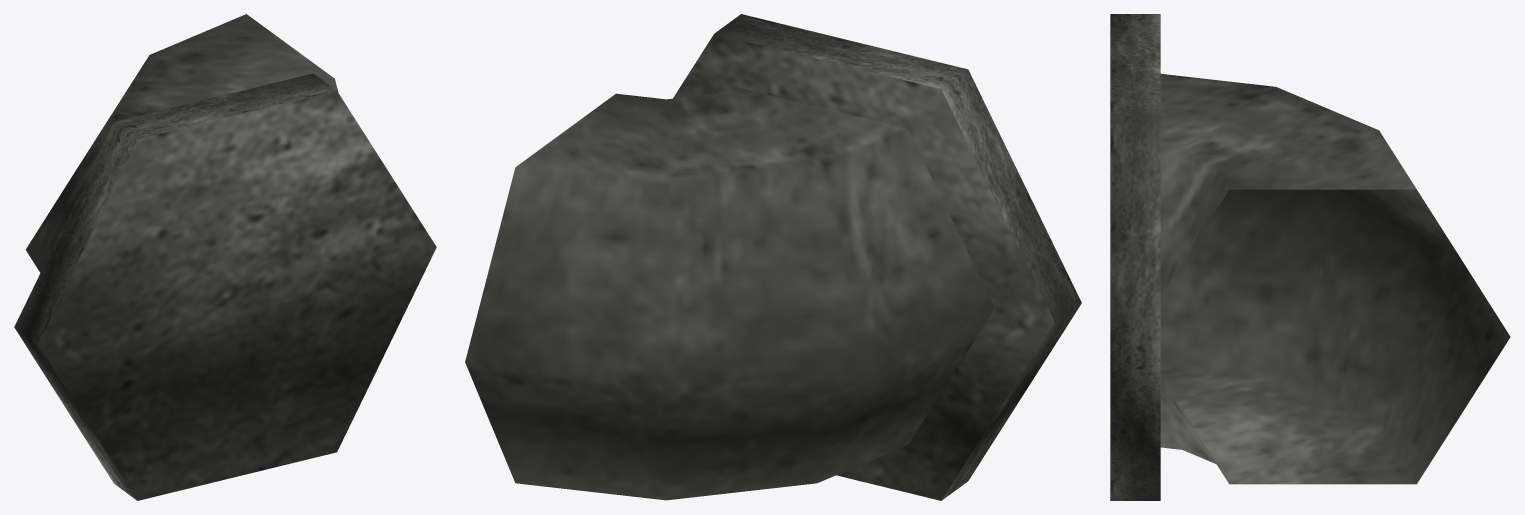
The model's file is large_metal_1_elbow_hz.fbx.
3 renders of one model, left to right at view 1: azimuth 30°, elevation 25°; view 2: azimuth 150°, elevation 25°; view 3: azimuth 270°, elevation 25°, orthographic. The views are drawn at different scales.
Parts seen in each view (by area): view 1: polySurface528; view 2: polySurface528; view 3: polySurface528.
Boxes of the visible parts, x1,y1,x2,y2 form: polySurface528: (14, 14, 436, 500); polySurface528: (465, 14, 1081, 500); polySurface528: (1110, 14, 1510, 500).
Bounding box in the file's own units: 1.3 × 1.13 × 1.07.
